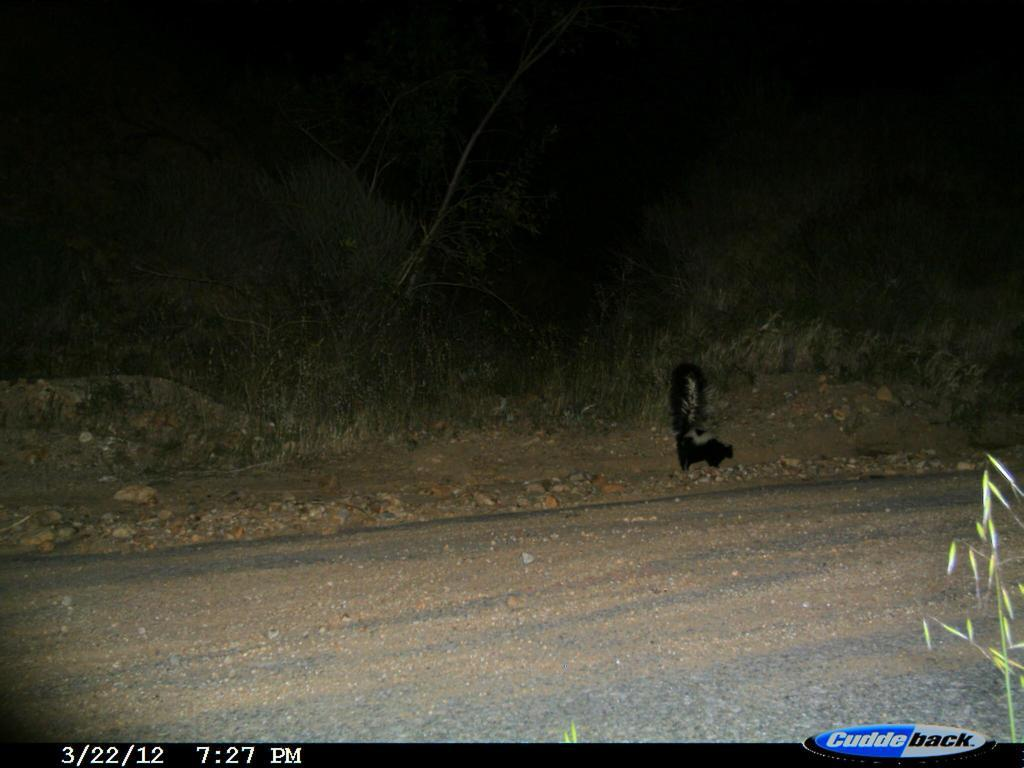skunk: (660, 356, 745, 478)
